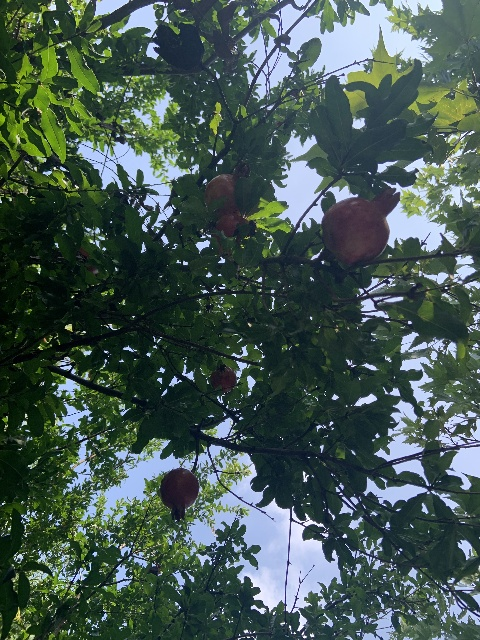ripe: (321, 187, 400, 264), (204, 162, 250, 218), (160, 467, 199, 521), (210, 213, 249, 260), (209, 363, 236, 393)
